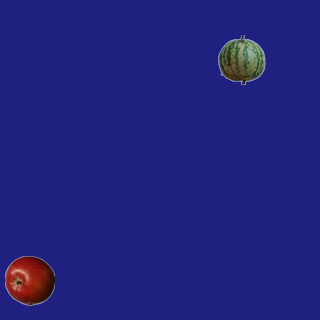Apple Braeburn: (4, 255, 54, 305)
Watermelon: (216, 34, 266, 84)
